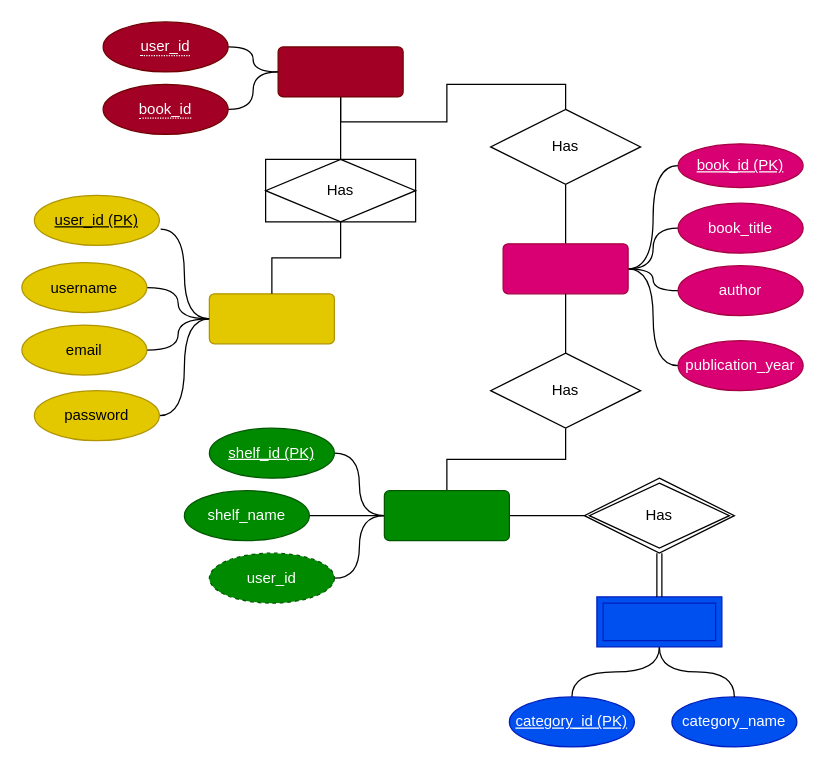
Some shapes in this 825 by 769 pixel diagram are drawn without their labels. Each missing label, with the centre of its shape:
BOOK: the point at 565,268
CATEGORY: the point at 659,621
DOWNLOAD: the point at 340,71
SHELF: the point at 446,515
USER: the point at 271,318
